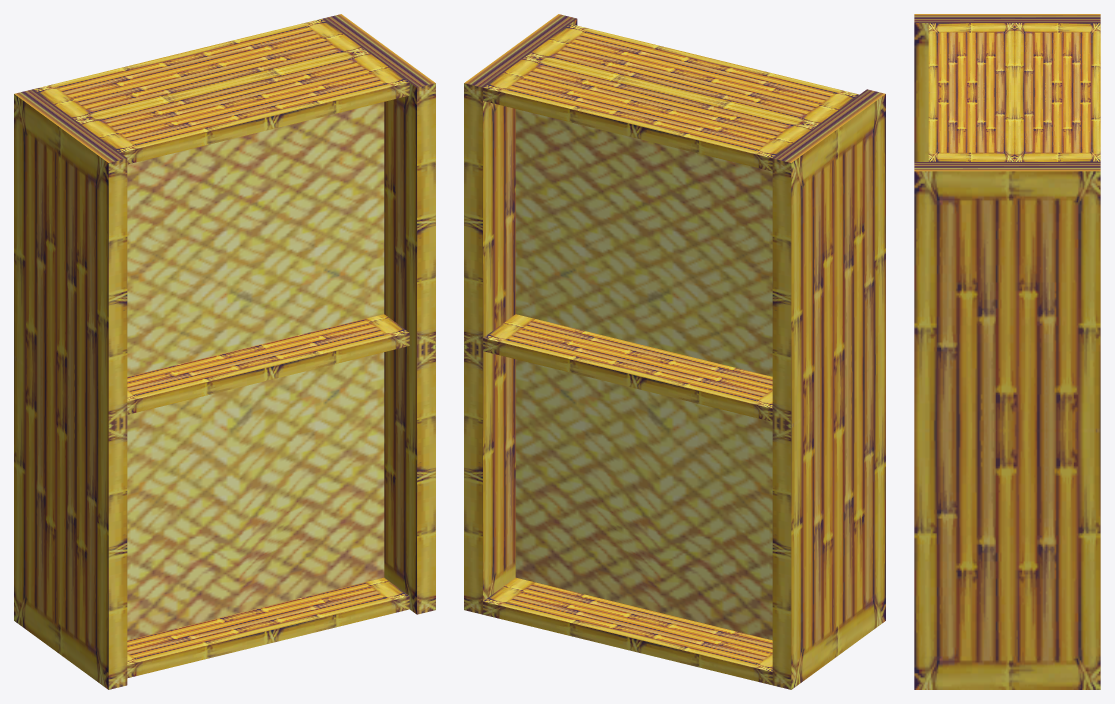
The model's file is chestrevolve.dae.
3 renders of one model, left to right at view 1: azimuth 30°, elevation 25°; view 2: azimuth 150°, elevation 25°; view 3: azimuth 270°, elevation 25°, orthographic.
Parts seen in each view (by area): view 1: m0; view 2: m0; view 3: m0.
Part boxes in pixels (x1,y1,x2,y2): m0: (14,14,435,689); m0: (464,14,885,689); m0: (914,14,1100,689).
Size of the model in its own units: 260 by 400 by 130.
1 material, 1 textured.
